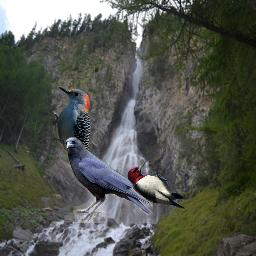Crow: (63, 137, 153, 223)
Woodpecker: (50, 84, 91, 186), (124, 160, 189, 209)
